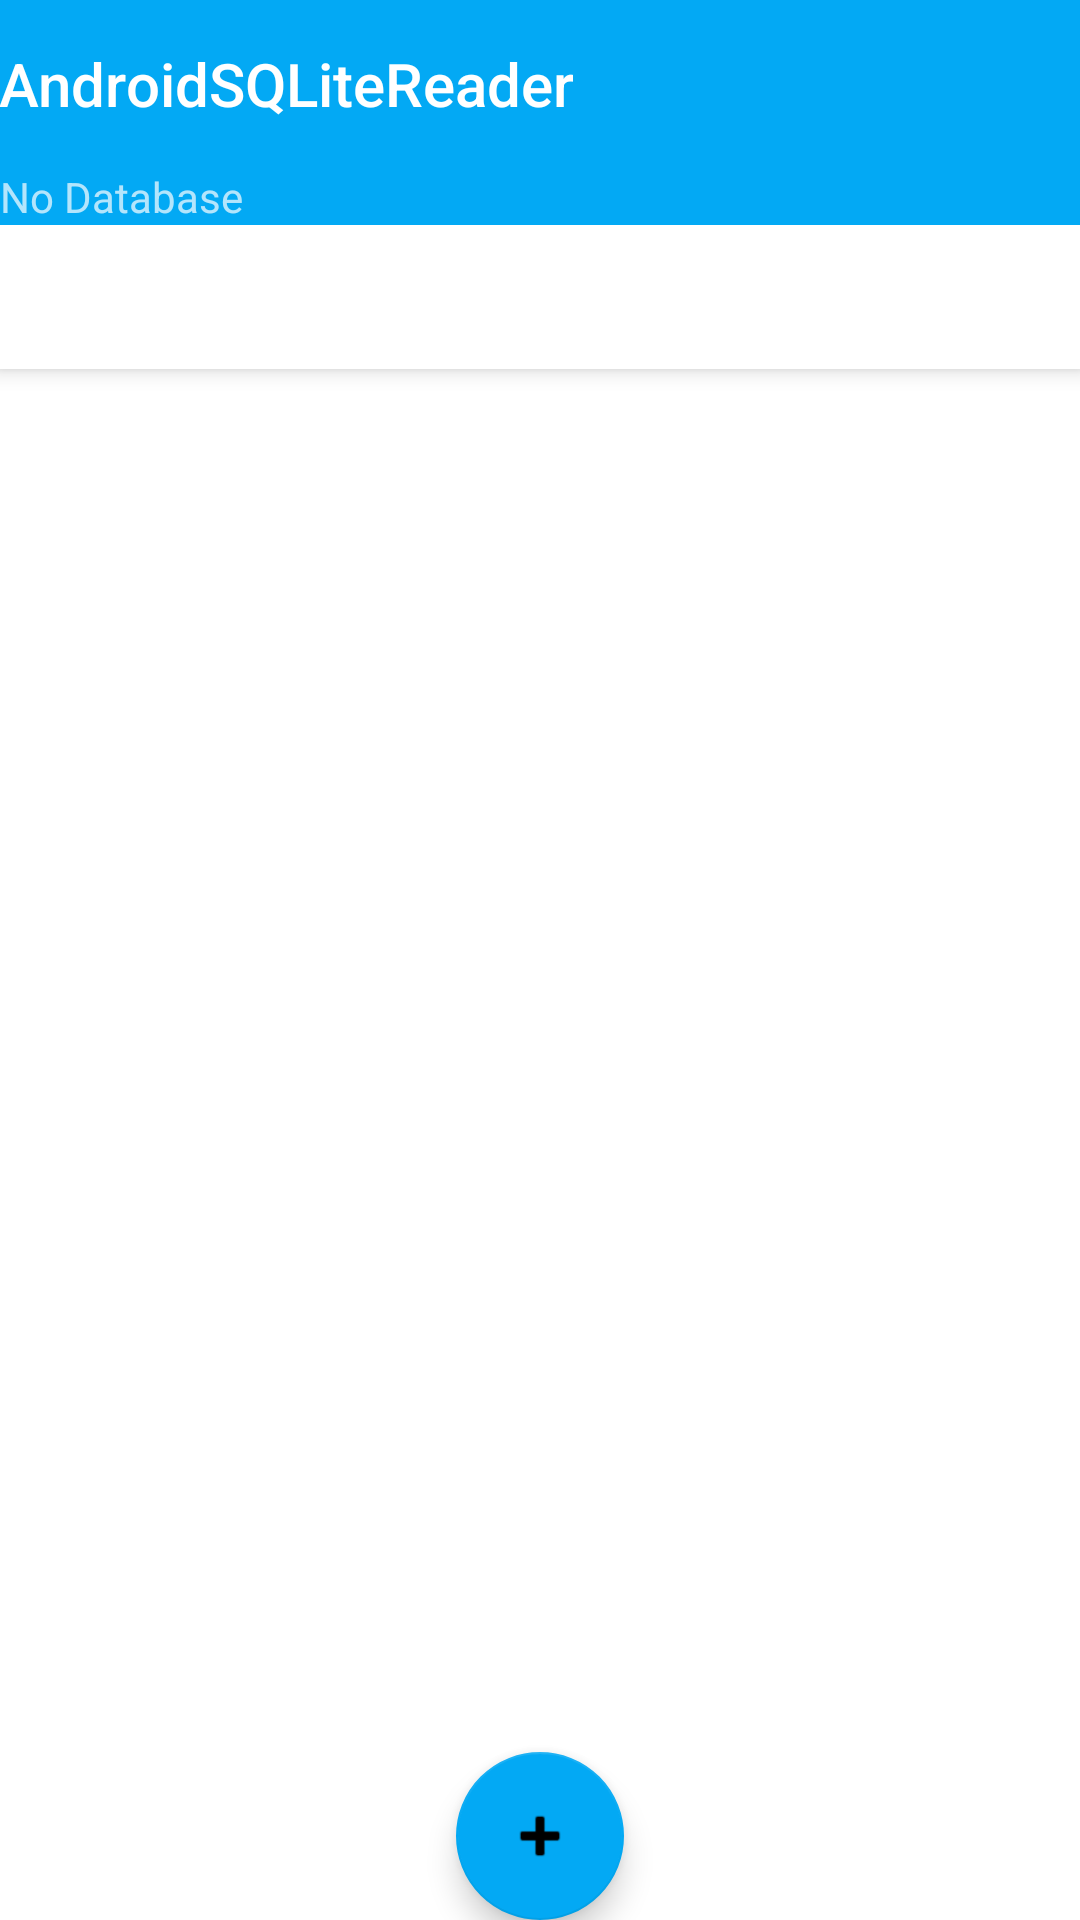

Icons on this 1080 x 1920 Android screen, each with the point to tap as (x,y):
add: (540,1836)
